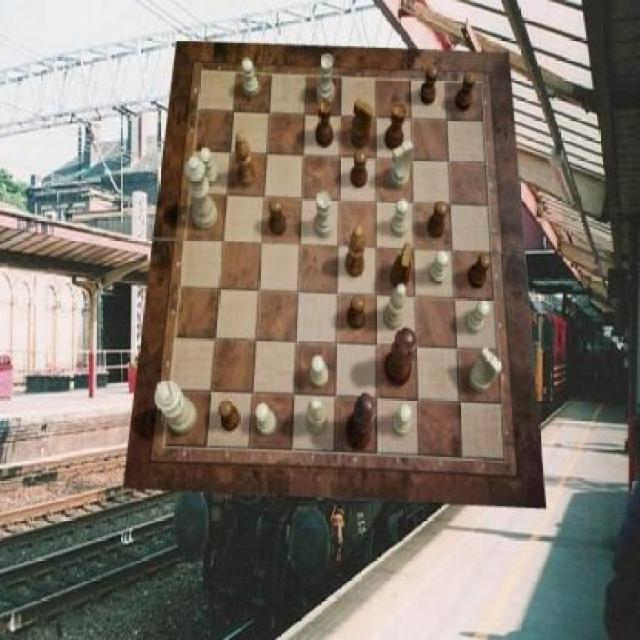bishop: (235, 131, 258, 188), (346, 226, 366, 279)
black-bishop: (345, 392, 377, 450)
black-king: (351, 100, 373, 151), (391, 243, 414, 289)
black-knight: (455, 72, 478, 112), (468, 252, 490, 288), (428, 200, 448, 238), (420, 64, 438, 104), (218, 400, 240, 432), (350, 149, 368, 188), (269, 199, 287, 236), (348, 295, 365, 330)
black-pawn: (384, 328, 418, 386)
black-queen: (385, 103, 407, 152), (315, 97, 333, 148)
black-rook: (383, 283, 406, 329), (306, 397, 329, 435)
white-bishop: (154, 379, 197, 433)
white-king: (470, 348, 502, 393), (391, 140, 414, 189)
white-knight: (466, 299, 491, 333), (200, 148, 220, 186), (428, 249, 448, 284), (256, 403, 276, 437), (392, 404, 412, 438), (242, 58, 259, 97), (391, 200, 408, 238), (311, 357, 328, 389)
white-pawn: (185, 157, 218, 231)
white-queen: (314, 192, 334, 238), (317, 54, 335, 104)
